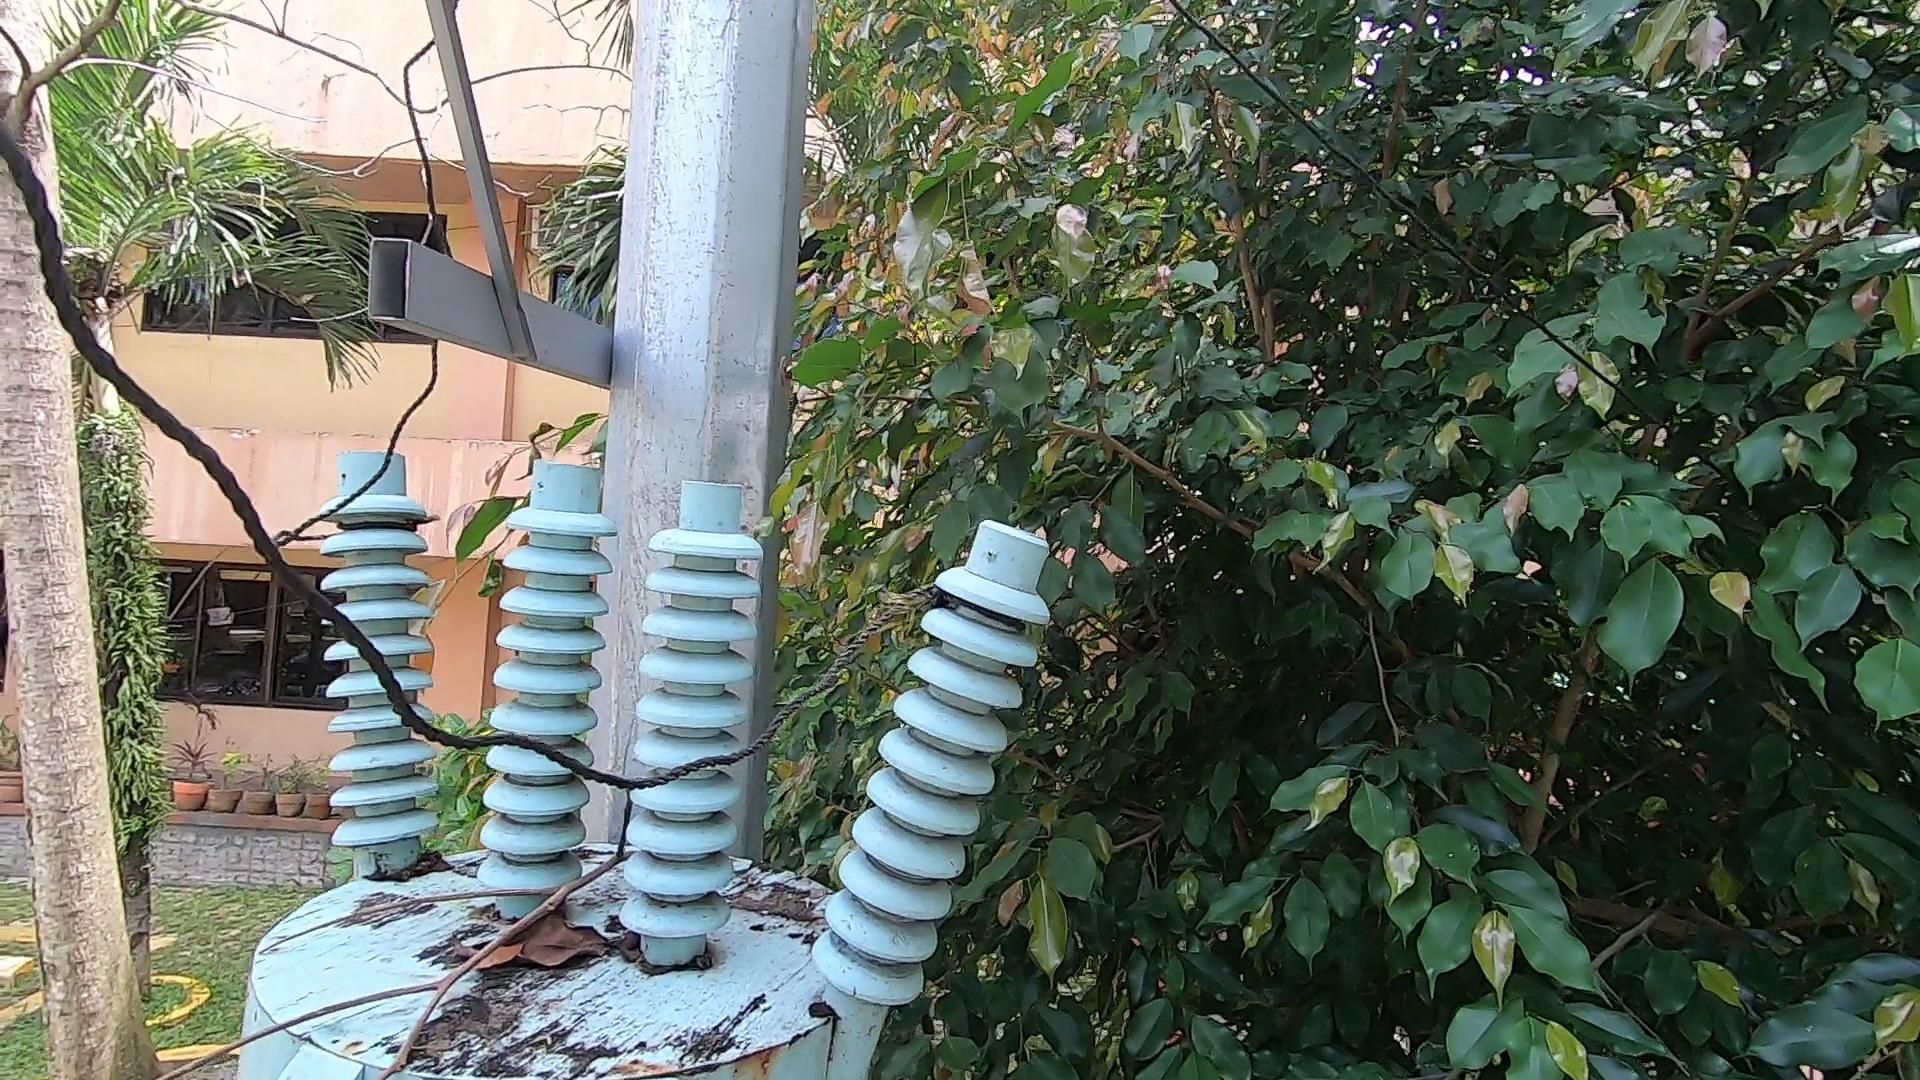leaf: (440, 905, 636, 982), (733, 857, 820, 935), (361, 847, 462, 885)
tree branch: (117, 847, 640, 1080)
